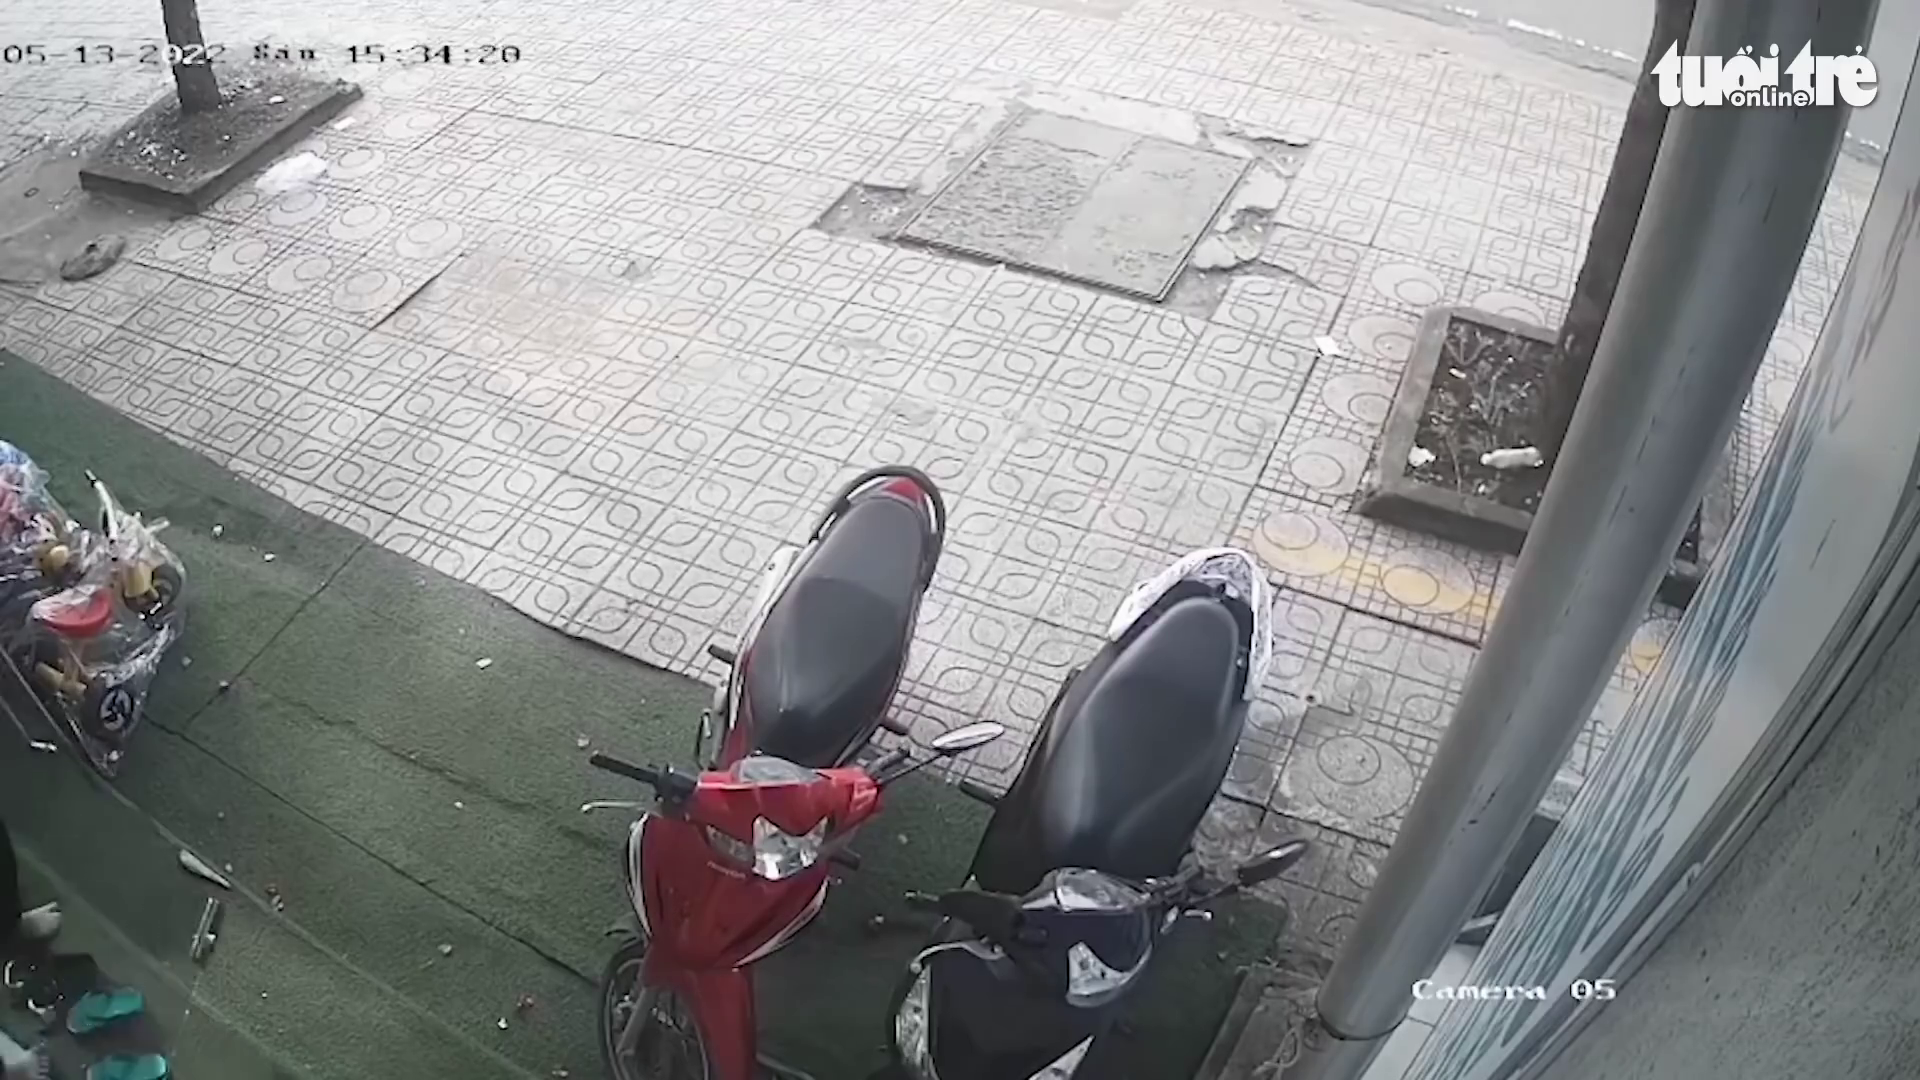Motorcycle: (579, 462, 1304, 1072)
